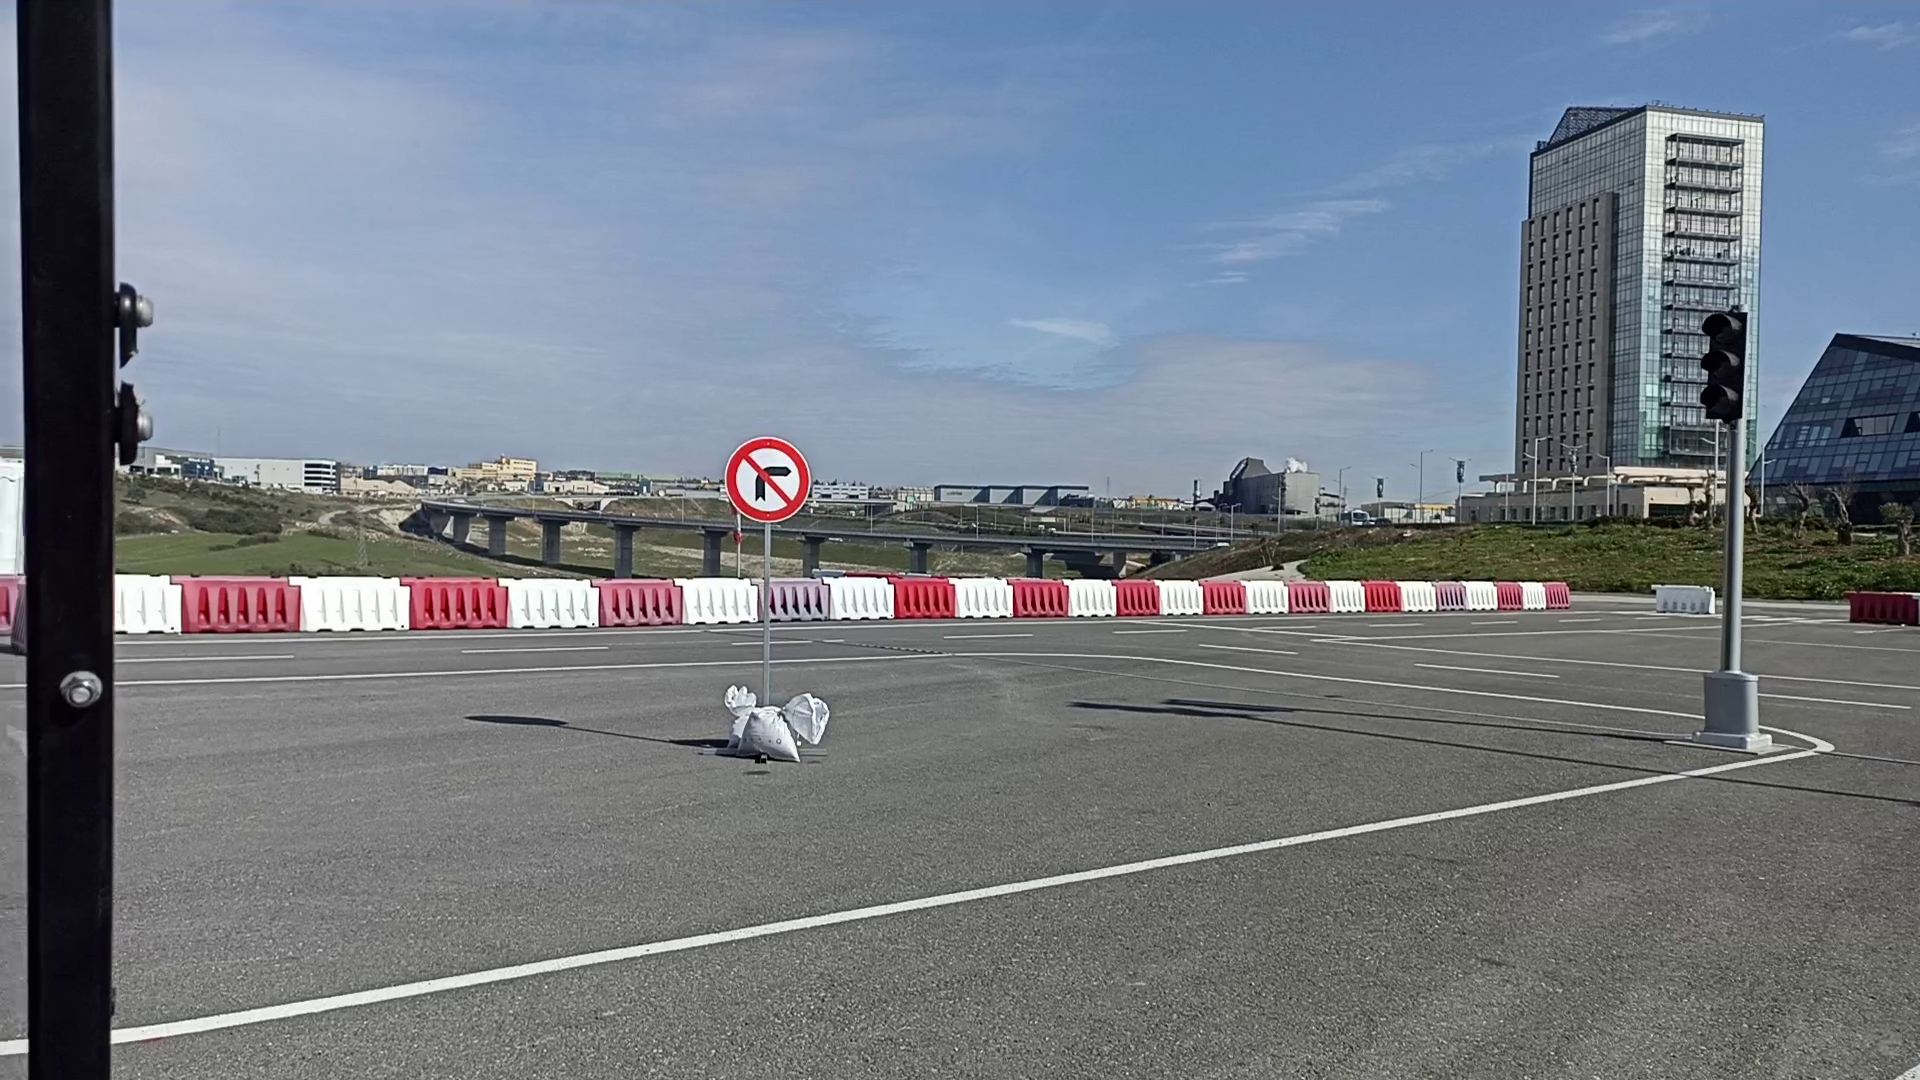noleftturn: (721, 433, 814, 525)
trafficlight: (1696, 301, 1746, 422)
